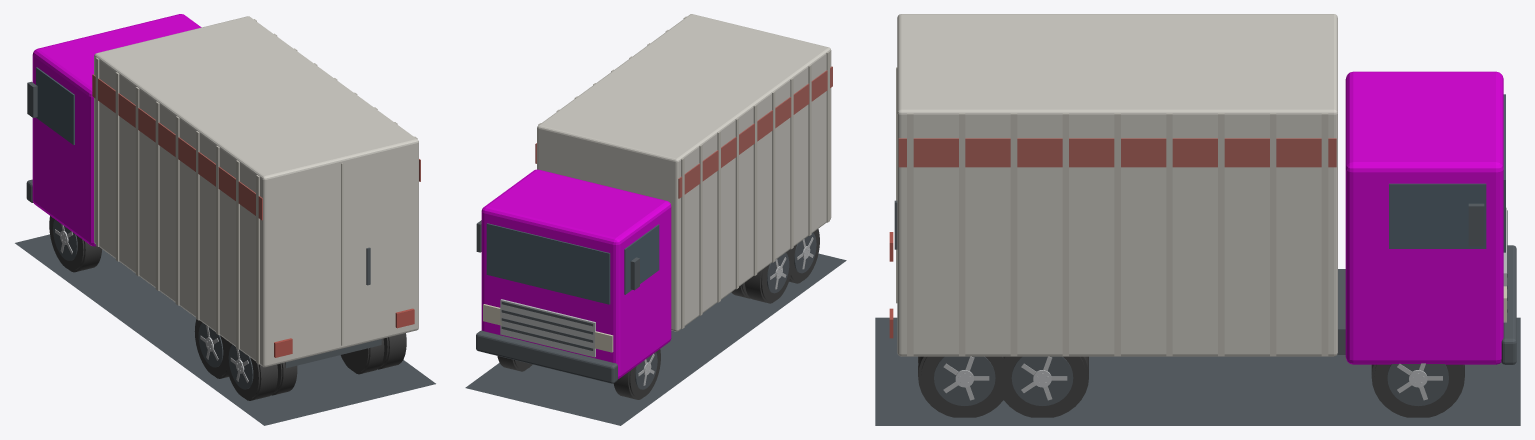
Rendered from truk.glb.
3 views of the same model, side by side, from view 1: azimuth 30°, elevation 25°; view 2: azimuth 150°, elevation 25°; view 3: azimuth 270°, elevation 25° (orthographic). The views are drawn at different scales.
Parts seen in each view (by area): view 1: main; view 2: main; view 3: main.
Boxes of the visible parts, x1=… form: main: x1=15, y1=14, x2=435, y2=425; main: x1=465, y1=14, x2=846, y2=425; main: x1=875, y1=14, x2=1520, y2=425.
Size of the model in its own units: 2.01 by 2.65 by 4.98.
